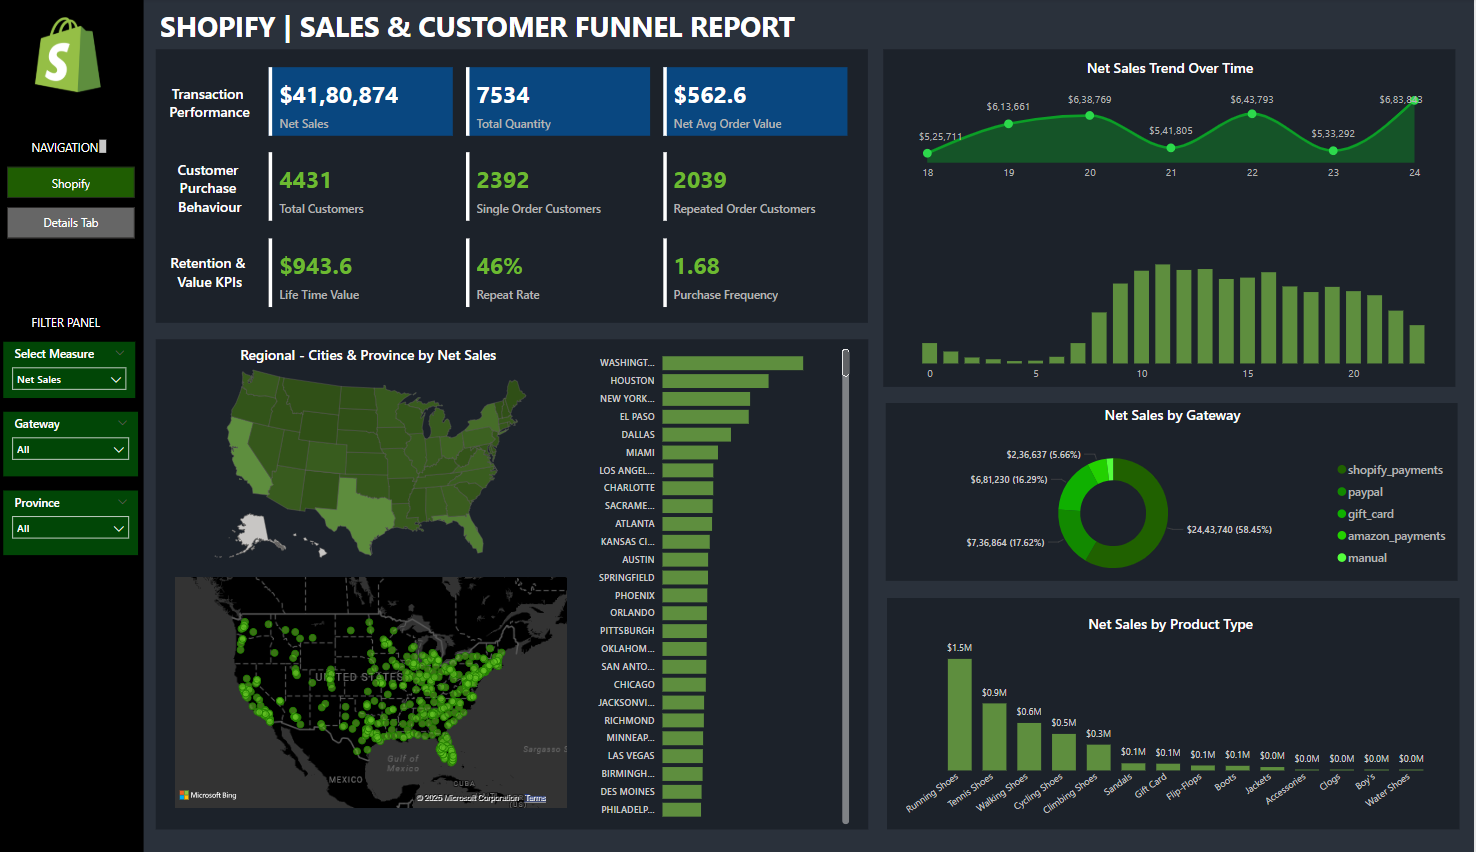

Layout of this report page (visuals, bound fields, positions):
{"tool":"powerbi","page":{"name":"Shopify ","canvas":[1700,1000],"ordinal":0},"visuals":[{"type":"textbox","box":[182.8,5.8,804.6,59],"z":0},{"type":"shape","box":[0,0,169,1000.3],"z":1000},{"type":"shape","box":[183,58.9,820,315],"z":2000},{"type":"cardVisual","fields":{"Data":["shopify_sales.Net Sales","shopify_sales.Total Quantity","shopify_sales.Net Avg Order Value"]},"box":[307.9,74.2,678.9,90],"z":3000},{"type":"card","fields":{"Values":["shopify_sales.Transaction Perf"]},"box":[183,82.2,124.1,76],"z":4000},{"type":"cardVisual","fields":{"Data":["shopify_sales.Total Customers","shopify_sales.Single Order Customers","shopify_sales.Repeated Order Customers"]},"box":[307.9,173,678.9,90],"z":5000},{"type":"cardVisual","fields":{"Data":["shopify_sales.Life Time Value","shopify_sales.Repeat Rate","shopify_sales.Purchase Frequency"]},"box":[307.9,271.5,678.9,90],"z":6000},{"type":"card","fields":{"Values":["shopify_sales.Customer Purchase Behaviour"]},"box":[183.1,170.5,124.7,91.6],"z":7000},{"type":"card","fields":{"Values":["shopify_sales.Retention & Value KPIs"]},"box":[183.1,276.3,124.7,77.4],"z":8000},{"type":"shape","box":[183,392.4,820.4,564.5],"z":9000},{"type":"shapeMap","fields":{"Value":["shopify_sales.Net Sales"],"Category":["shopify_sales.Billing Address Province"]},"box":[203.2,411,454.4,249.7],"z":10000},{"type":"slicer","fields":{"Values":["Select Measure.Select Measure"]},"box":[7.8,395.5,152,65.1],"z":11000},{"type":"map","fields":{"Category":["shopify_sales.Location"]},"box":[200,661.7,461.7,275],"z":12000},{"type":"clusteredBarChart","fields":{"Y":["shopify_sales.Net Sales"],"Category":["shopify_sales.CITY"]},"box":[676.7,391.7,310,565],"z":13000},{"type":"card","fields":{"Values":["Select Measure.Map Title"]},"box":[192.9,395.8,469.2,34.5],"z":14000},{"type":"shape","box":[1020.8,58.7,659.4,389.2],"z":15000},{"type":"areaChart","fields":{"Y":["shopify_sales.Net Sales"],"Category":["shopify_sales.Invoice Date.Variation.Date Hierarchy.Day"]},"box":[1056.1,97.7,590.9,121],"z":16000},{"type":"columnChart","fields":{"Y":["shopify_sales.Net Sales"],"Category":["shopify_sales.Hour"]},"box":[1059.2,263.6,590.9,187.7],"z":17000},{"type":"card","fields":{"Values":["shopify_sales.Trend Title"]},"box":[1121.2,64.8,459.1,34.5],"z":18000},{"type":"shape","box":[1023.6,466.8,659.1,205],"z":19000},{"type":"donutChart","fields":{"Y":["shopify_sales.Net Sales"],"Category":["shopify_sales.Gateway"]},"box":[1023.6,508.7,659.1,170.6],"z":20000},{"type":"card","fields":{"Values":["shopify_sales.Gateway Title"]},"box":[1118.3,464.9,470.6,34.5],"z":21000},{"type":"shape","box":[1025.1,690.1,659.1,266.8],"z":22000},{"type":"columnChart","fields":{"Y":["shopify_sales.Net Sales"],"Category":["shopify_sales.Product Type"]},"box":[1042.2,722.7,621.9,231.1],"z":23000},{"type":"card","fields":{"Values":["shopify_sales.Product Title"]},"box":[1116.9,705.2,469.2,34.5],"z":24000},{"type":"image","box":[31.7,17.3,99.3,96.4],"z":25000},{"type":"slicer","fields":{"Values":["shopify_sales.Gateway"]},"box":[7.8,476.1,155.1,74.4],"z":26000},{"type":"slicer","fields":{"Values":["shopify_sales.Billing Address Province"]},"box":[7.8,567.6,155.1,74.4],"z":27000},{"type":"pageNavigator","box":[10.9,193.9,147.3,83.7],"z":28000},{"type":"textbox","box":[34.5,158.3,96.4,28.8],"z":29000},{"type":"textbox","box":[34.5,359.8,100.7,28.8],"z":30000}]}

Visuals, with their boxes on the page's 1700x1000 design canvas (x1, y1, x2, y2). These are canvas units, not pixel positions in the 1476x852 screenshot, which may show the page scaled, cropped or inside an application window:
textbox: pyautogui.locateOnScreen(183, 6, 987, 65)
shape: pyautogui.locateOnScreen(0, 0, 169, 1000)
shape: pyautogui.locateOnScreen(183, 59, 1003, 374)
cardVisual - shopify_sales.Net Sales x shopify_sales.Total Quantity: pyautogui.locateOnScreen(308, 74, 987, 164)
card - shopify_sales.Transaction Perf: pyautogui.locateOnScreen(183, 82, 307, 158)
cardVisual - shopify_sales.Total Customers x shopify_sales.Single Order Customers: pyautogui.locateOnScreen(308, 173, 987, 263)
cardVisual - shopify_sales.Life Time Value x shopify_sales.Repeat Rate: pyautogui.locateOnScreen(308, 272, 987, 362)
card - shopify_sales.Customer Purchase Behaviour: pyautogui.locateOnScreen(183, 170, 308, 262)
card - shopify_sales.Retention & Value KPIs: pyautogui.locateOnScreen(183, 276, 308, 354)
shape: pyautogui.locateOnScreen(183, 392, 1003, 957)
shapeMap - shopify_sales.Net Sales x shopify_sales.Billing Address Province: pyautogui.locateOnScreen(203, 411, 658, 661)
slicer - Select Measure.Select Measure: pyautogui.locateOnScreen(8, 396, 160, 461)
map - shopify_sales.Location: pyautogui.locateOnScreen(200, 662, 662, 937)
clusteredBarChart - shopify_sales.Net Sales x shopify_sales.CITY: pyautogui.locateOnScreen(677, 392, 987, 957)
card - Select Measure.Map Title: pyautogui.locateOnScreen(193, 396, 662, 430)
shape: pyautogui.locateOnScreen(1021, 59, 1680, 448)
areaChart - shopify_sales.Net Sales x shopify_sales.Invoice Date.Variation.Date Hierarchy.Day: pyautogui.locateOnScreen(1056, 98, 1647, 219)
columnChart - shopify_sales.Net Sales x shopify_sales.Hour: pyautogui.locateOnScreen(1059, 264, 1650, 451)
card - shopify_sales.Trend Title: pyautogui.locateOnScreen(1121, 65, 1580, 99)
shape: pyautogui.locateOnScreen(1024, 467, 1683, 672)
donutChart - shopify_sales.Net Sales x shopify_sales.Gateway: pyautogui.locateOnScreen(1024, 509, 1683, 679)
card - shopify_sales.Gateway Title: pyautogui.locateOnScreen(1118, 465, 1589, 499)
shape: pyautogui.locateOnScreen(1025, 690, 1684, 957)
columnChart - shopify_sales.Net Sales x shopify_sales.Product Type: pyautogui.locateOnScreen(1042, 723, 1664, 954)
card - shopify_sales.Product Title: pyautogui.locateOnScreen(1117, 705, 1586, 740)
image: pyautogui.locateOnScreen(32, 17, 131, 114)
slicer - shopify_sales.Gateway: pyautogui.locateOnScreen(8, 476, 163, 550)
slicer - shopify_sales.Billing Address Province: pyautogui.locateOnScreen(8, 568, 163, 642)
pageNavigator: pyautogui.locateOnScreen(11, 194, 158, 278)
textbox: pyautogui.locateOnScreen(34, 158, 131, 187)
textbox: pyautogui.locateOnScreen(34, 360, 135, 389)
